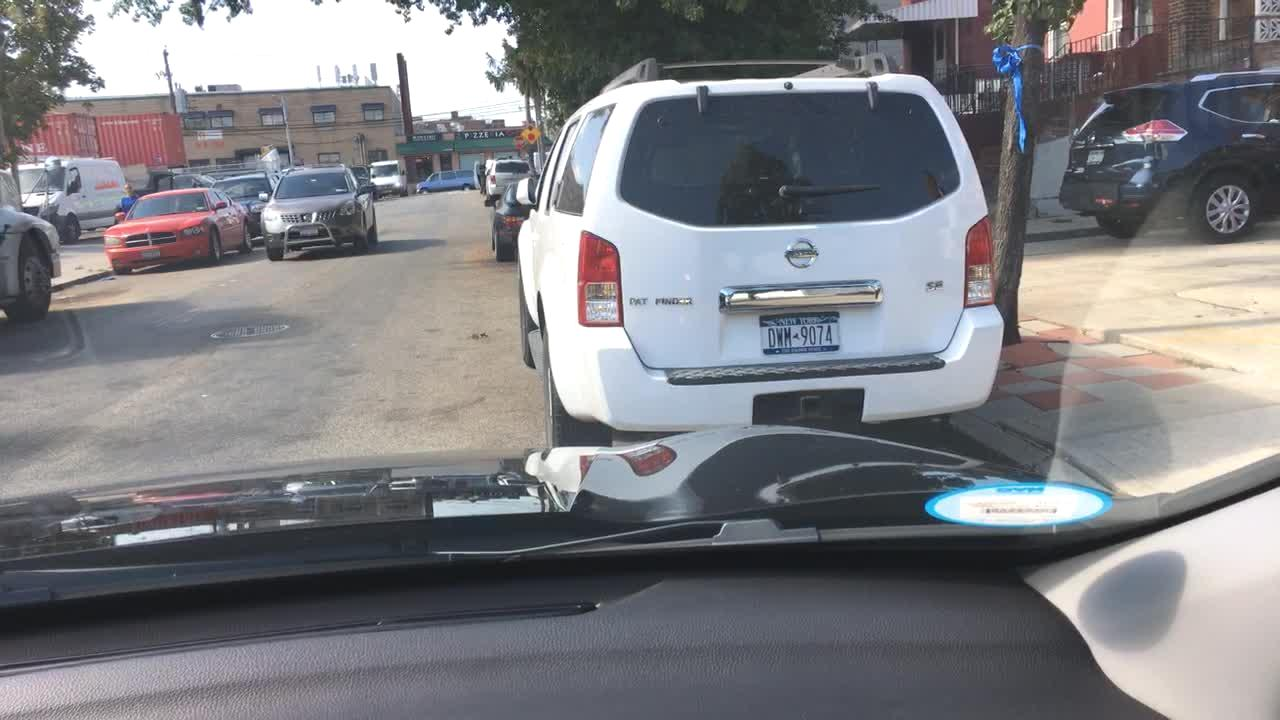Nissan: (771, 227, 827, 277)
